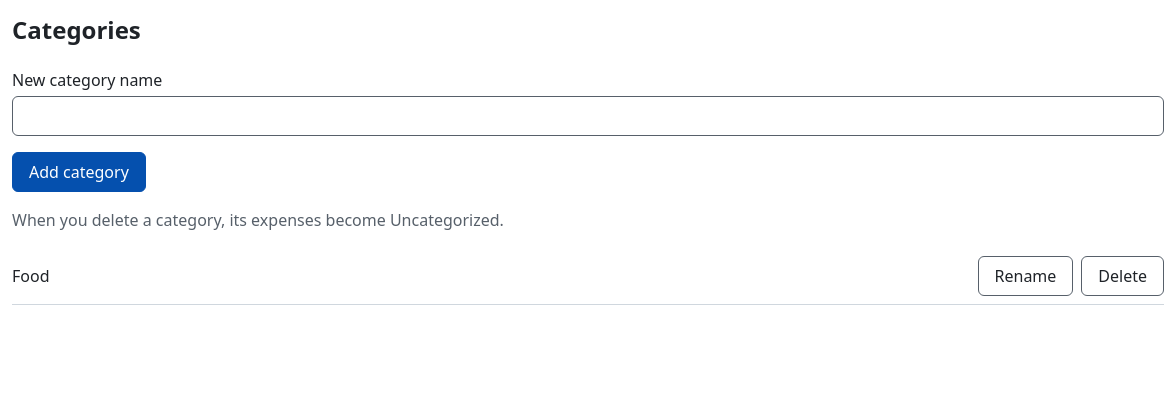
Test: CategoriesView: rename › Escape cancels the rename, keeps the old name and returns focus to Rename
Click the button "Rename" at (1025, 276), box [978,256,1073,296]
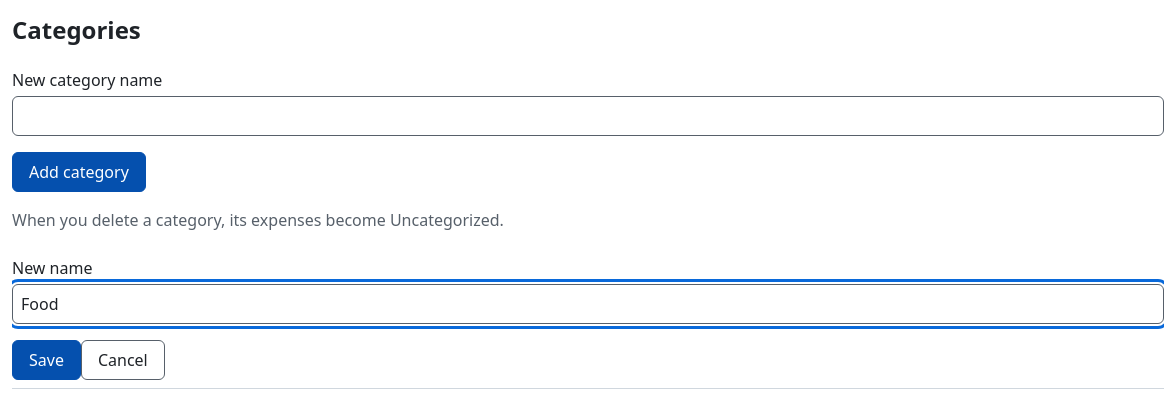
Replace the text in the field with id "rename-c1-name" with "Meals" at (588, 304), box [12,284,1164,324]
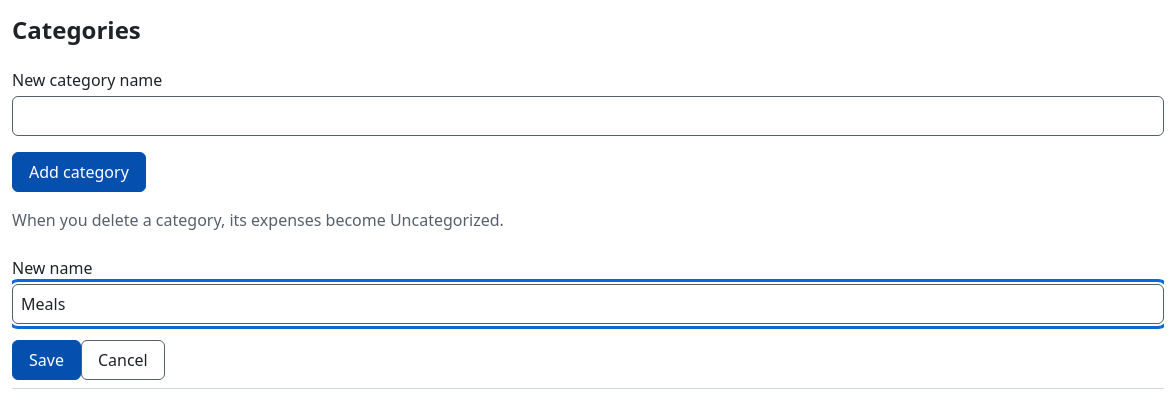
Press Escape in the field with id "rename-c1-name", box [12,284,1164,324]
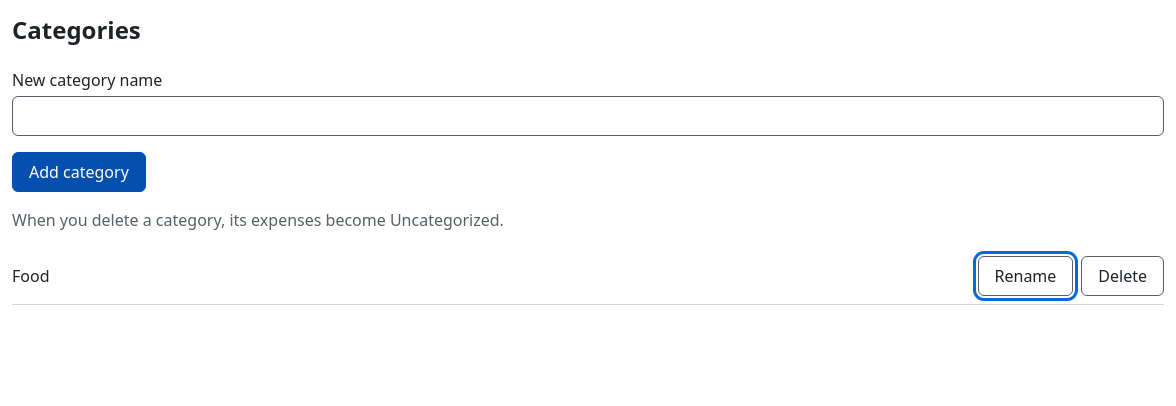
Expected: the button "Rename" is shown, [978,256,1073,296]
